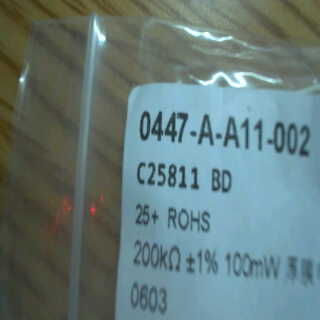200kR: (127, 239, 182, 274)
